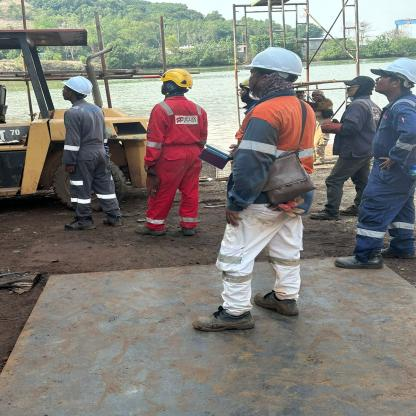bota: (188, 306, 255, 332), (254, 288, 301, 318), (334, 252, 384, 271), (378, 246, 416, 262), (61, 215, 94, 231), (306, 210, 344, 222), (134, 223, 164, 238), (176, 221, 200, 238), (100, 214, 121, 230), (340, 204, 361, 217)
